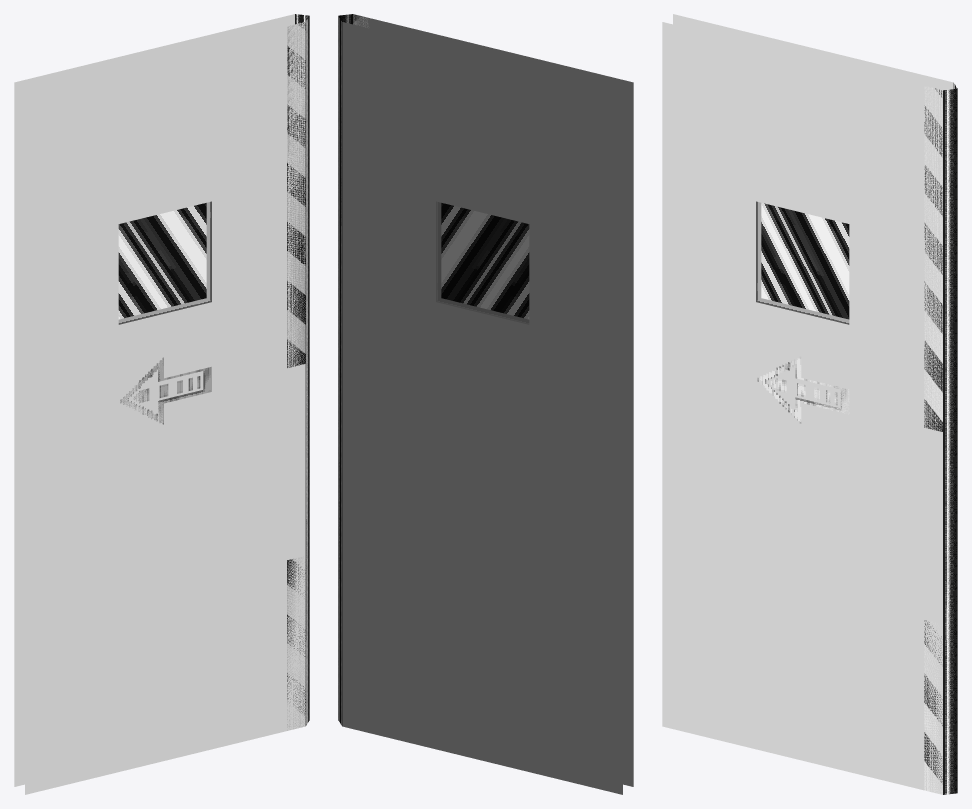
Rendered from Psev_door3_windZ.obj.
The picture shows the model from 3 angles, left to right: view 1: azimuth 30°, elevation 25°; view 2: azimuth 150°, elevation 25°; view 3: azimuth 330°, elevation 25°; orthographic projection.
Size of the model in its own units: 904 by 2100 by 58.
6 materials, 5 textured.
